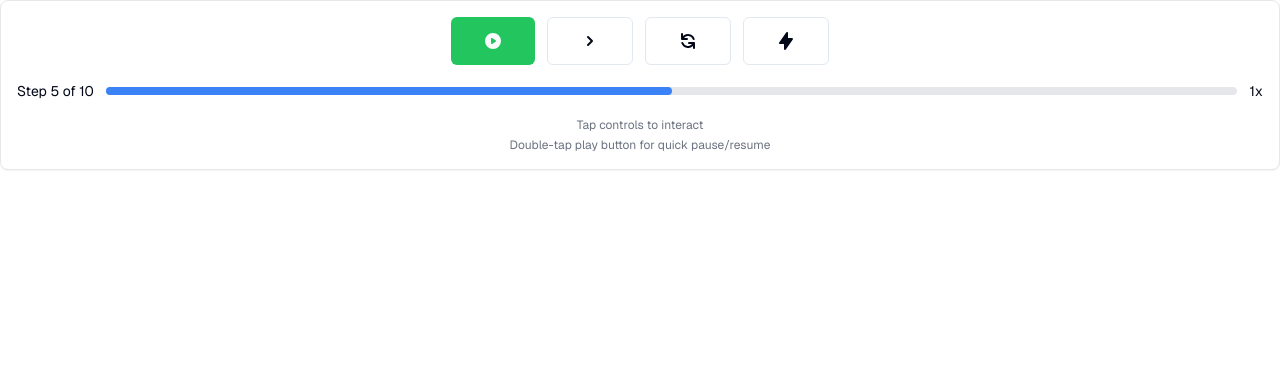
it: TouchOptimizedControls › toggles speed controls visibility
The width and height of the screenshot is (1280, 367).
Check: the text "Speed: 1x" is not shown
// Click to show speed controls
Click the button named "Toggle speed controls".
click(786, 41)  # box [743,17,829,65]
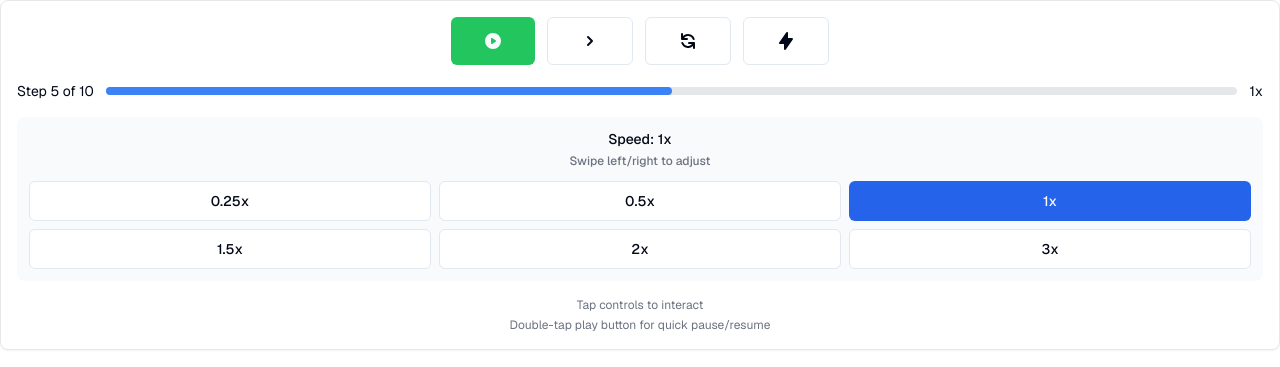
Check: the text "Speed: 1x" is shown, box [569,130,710,169]
// Click again to hide speed controls
Click the button named "Toggle speed controls".
click(786, 41)  # box [743,17,829,65]
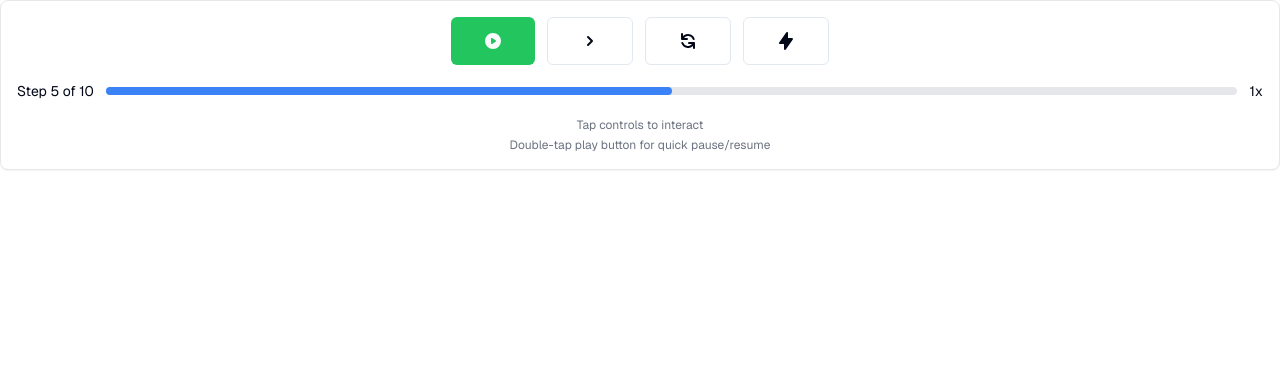
Check: the text "Speed: 1x" is gone
